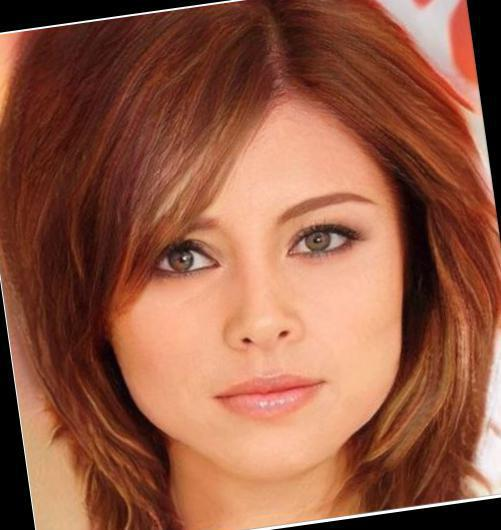Sober: (104, 120, 402, 440)
